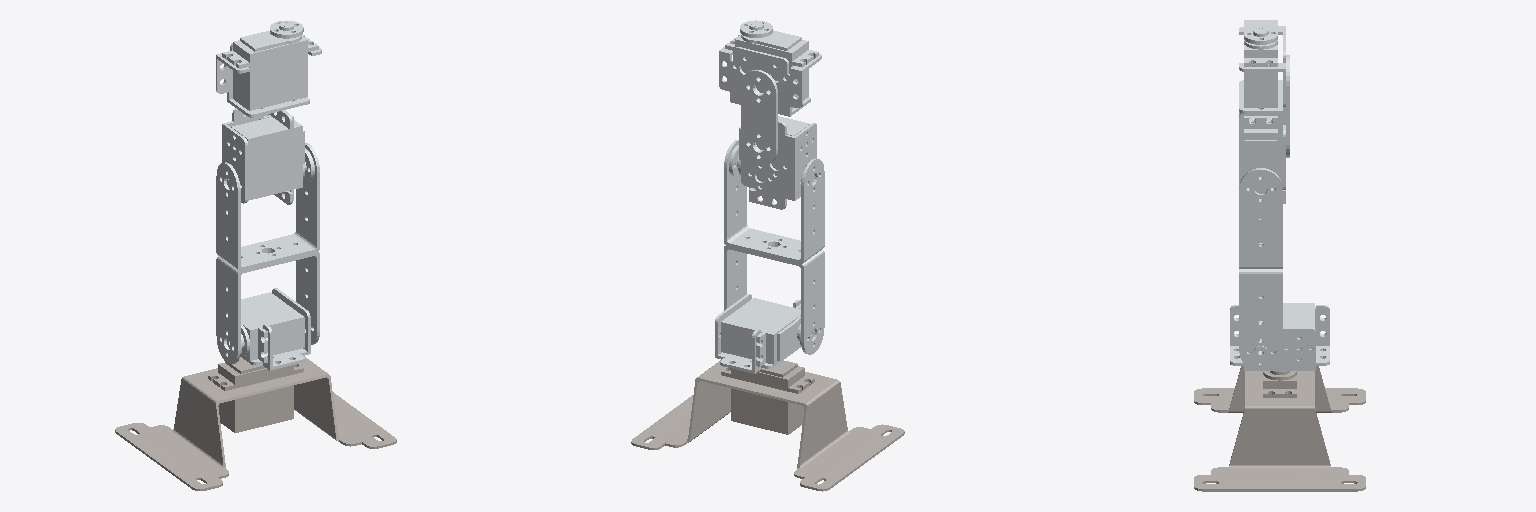
URDF robot description (victor5_description):
<robot
  name="victor5_description">
  <link
    name="base_link">
    <inertial>
      <origin
        xyz="-0.010878 -3.0166E-17 0.025399"
        rpy="0 0 0" />
      <mass
        value="0.054078" />
      <inertia
        ixx="2.1126E-05"
        ixy="-1.6673E-13"
        ixz="-1.6909E-07"
        iyy="5.2778E-05"
        iyz="-1.7718E-20"
        izz="4.9263E-05" />
    </inertial>
    <visual>
      <origin
        xyz="0 0 0"
        rpy="0 0 0" />
      <geometry>
        <mesh
          filename="package://victor5_description/meshes/base_link.STL" />
      </geometry>
      <material
        name="">
        <color
          rgba="0.77647 0.75686 0.73725 1" />
      </material>
    </visual>
    <collision>
      <origin
        xyz="0 0 0"
        rpy="0 0 0" />
      <geometry>
        <mesh
          filename="package://victor5_description/meshes/base_link.STL" />
      </geometry>
    </collision>
  </link>
  <link
    name="link1">
    <inertial>
      <origin
        xyz="-0.005859 -0.00029764 0.014273"
        rpy="0 0 0" />
      <mass
        value="0.055714" />
      <inertia
        ixx="1.2781E-05"
        ixy="6.801E-08"
        ixz="3.7239E-07"
        iyy="1.2161E-05"
        iyz="4.5227E-08"
        izz="1.8316E-05" />
    </inertial>
    <visual>
      <origin
        xyz="0 0 0"
        rpy="0 0 0" />
      <geometry>
        <mesh
          filename="package://victor5_description/meshes/link1.STL" />
      </geometry>
      <material
        name="">
        <color
          rgba="0.89804 0.91765 0.92941 1" />
      </material>
    </visual>
    <collision>
      <origin
        xyz="0 0 0"
        rpy="0 0 0" />
      <geometry>
        <mesh
          filename="package://victor5_description/meshes/link1.STL" />
      </geometry>
    </collision>
  </link>
  <joint
    name="joint1"
    type="revolute">
    <origin
      xyz="0 0 0.054"
      rpy="0 0 0" />
    <parent
      link="base_link" />
    <child
      link="link1" />
    <axis
      xyz="0 0 1" />
    <limit
      lower="-1.57"
      upper="1.57"
      effort="0"
      velocity="0" />
  </joint>
  <link
    name="link2">
    <inertial>
      <origin
        xyz="-2.3057E-07 -0.052 -0.0235"
        rpy="0 0 0" />
      <mass
        value="0.048335" />
      <inertia
        ixx="7.6992E-05"
        ixy="-2.0484E-10"
        ixz="-2.2166E-11"
        iyy="3.0796E-05"
        iyz="-4.9991E-06"
        izz="5.1135E-05" />
    </inertial>
    <visual>
      <origin
        xyz="0 0 0"
        rpy="0 0 0" />
      <geometry>
        <mesh
          filename="package://victor5_description/meshes/link2.STL" />
      </geometry>
      <material
        name="">
        <color
          rgba="0.89804 0.91765 0.92941 1" />
      </material>
    </visual>
    <collision>
      <origin
        xyz="0 0 0"
        rpy="0 0 0" />
      <geometry>
        <mesh
          filename="package://victor5_description/meshes/link2.STL" />
      </geometry>
    </collision>
  </link>
  <joint
    name="joint2"
    type="revolute">
    <origin
      xyz="-0.0325 -0.011 0.017"
      rpy="-1.5708 -2.9681E-34 1.5708" />
    <parent
      link="link1" />
    <child
      link="link2" />
    <axis
      xyz="0 0 -1" />
    <limit
      lower="-1.57"
      upper="1.57"
      effort="0"
      velocity="0" />
  </joint>
  <link
    name="link3">
    <inertial>
      <origin
        xyz="0.0030387 0.037886 -0.023412"
        rpy="0 0 0" />
      <mass
        value="0.11454" />
      <inertia
        ixx="0.00012216"
        ixy="-1.5975E-07"
        ixz="2.5822E-07"
        iyy="2.6684E-05"
        iyz="-4.2408E-06"
        izz="0.00010966" />
    </inertial>
    <visual>
      <origin
        xyz="0 0 0"
        rpy="0 0 0" />
      <geometry>
        <mesh
          filename="package://victor5_description/meshes/link3.STL" />
      </geometry>
      <material
        name="">
        <color
          rgba="0.89804 0.91765 0.92941 1" />
      </material>
    </visual>
    <collision>
      <origin
        xyz="0 0 0"
        rpy="0 0 0" />
      <geometry>
        <mesh
          filename="package://victor5_description/meshes/link3.STL" />
      </geometry>
    </collision>
  </link>
  <joint
    name="joint3"
    type="revolute">
    <origin
      xyz="0 -0.104 -0.047"
      rpy="3.1416 1.8729E-17 0" />
    <parent
      link="link2" />
    <child
      link="link3" />
    <axis
      xyz="0 0 1" />
    <limit
      lower="-1.57"
      upper="1.57"
      effort="0"
      velocity="0" />
  </joint>
  <link
    name="gripper_link">
    <inertial>
      <origin
        xyz="3.4694E-18 0 0.0010453"
        rpy="0 0 0" />
      <mass
        value="0.0019584" />
      <inertia
        ixx="5.1161E-08"
        ixy="-2.8671E-25"
        ixz="-4.2409E-24"
        iyy="5.1161E-08"
        iyz="5.1191E-24"
        izz="9.8556E-08" />
    </inertial>
    <visual>
      <origin
        xyz="0 0 0"
        rpy="0 0 0" />
      <geometry>
        <mesh
          filename="package://victor5_description/meshes/gripper_link.STL" />
      </geometry>
      <material
        name="">
        <color
          rgba="0.89804 0.91765 0.92941 1" />
      </material>
    </visual>
    <collision>
      <origin
        xyz="0 0 0"
        rpy="0 0 0" />
      <geometry>
        <mesh
          filename="package://victor5_description/meshes/gripper_link.STL" />
      </geometry>
    </collision>
  </link>
  <joint
    name="joint_gripper"
    type="revolute">
    <origin
      xyz="0 0.092 -0.011"
      rpy="1.5708 -1.5708 0" />
    <parent
      link="link3" />
    <child
      link="gripper_link" />
    <axis
      xyz="0 0 1" />
    <limit
      lower="-1.57"
      upper="1.57"
      effort="0"
      velocity="0" />
  </joint>
</robot>

--- Render facts (derived) ---
The picture shows the robot from 3 angles, left to right: view 1: azimuth 30°, elevation 25°; view 2: azimuth 150°, elevation 25°; view 3: azimuth 270°, elevation 25°; orthographic projection.
Robot: victor5_description — 5 links, 4 joints (4 revolute); root link base_link; default pose: every joint at zero.
Visible links, largest first — view 1: base_link, link3, link2, link1; view 2: base_link, link3, link2, link1; view 3: base_link, link2, link3, link1.
Boxes of the visible links, x1,y1,x2,y2 form: base_link: (115, 356, 396, 490); link3: (216, 22, 321, 204); link2: (216, 143, 319, 364); link1: (240, 288, 310, 370); base_link: (631, 360, 904, 491); link3: (719, 22, 821, 209); link2: (724, 140, 824, 354); link1: (715, 294, 811, 373); base_link: (1194, 366, 1365, 491); link2: (1239, 165, 1282, 370); link3: (1239, 20, 1289, 203); link1: (1230, 303, 1329, 371).
Size in the robot's own frame: 0.138 by 0.1 by 0.269 metres.
5 mesh visuals loaded from 5 distinct referenced files (5 binary STL).
